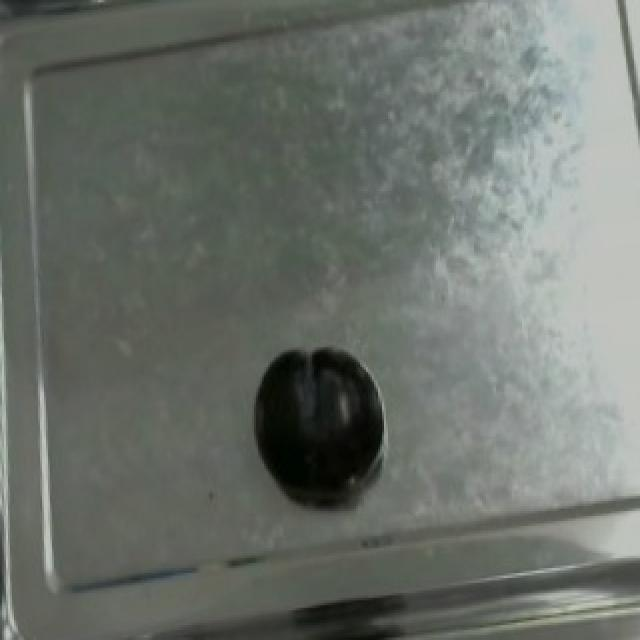Fruit: (248, 342, 380, 503)
